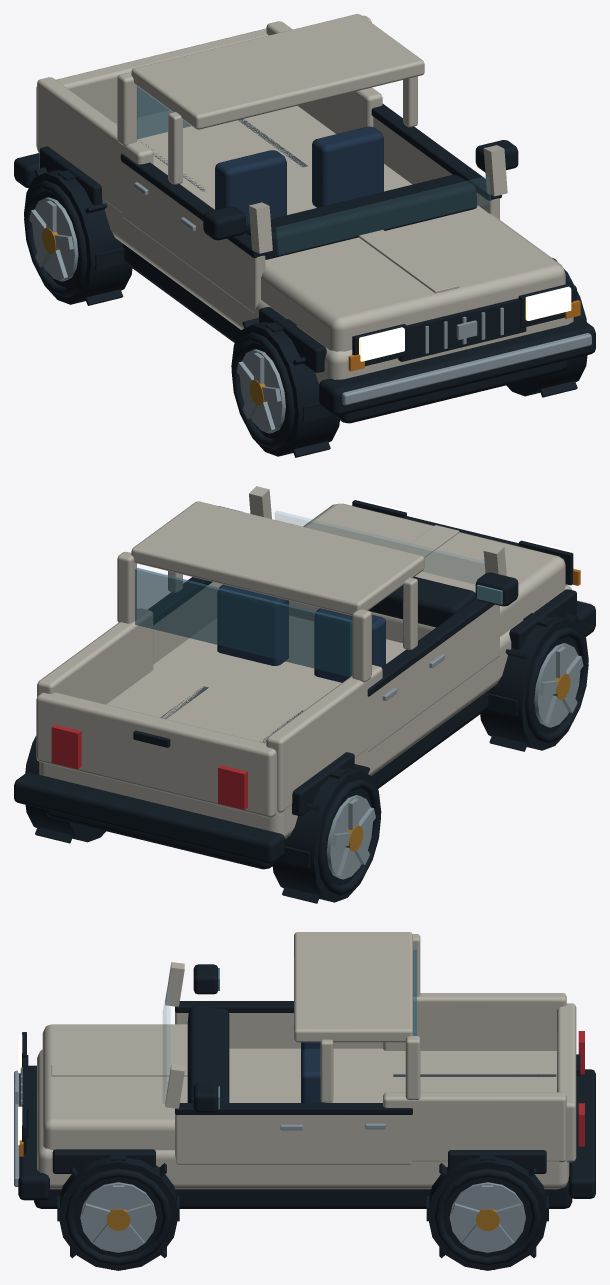
The model's file is white-empanade.glb.
The picture shows the model from 3 angles, top to bottom: view 1: azimuth 30°, elevation 25°; view 2: azimuth 150°, elevation 25°; view 3: azimuth 270°, elevation 25°; orthographic projection. The views are drawn at different scales.
Visible parts, largest first — view 1: sill_merged, underbody_merged, tire_merged (×3), seat-back_merged, low-windscreen, rim_merged (×2), door-handle_merged, headlight_merged, mirror-shell (×2), rear-glass; view 2: sill_merged, underbody_merged, tire_merged (×3), rear-glass, seat-back_merged, rim_merged (×2), low-windscreen, tail-light_merged, mirror-shell; view 3: sill_merged, underbody_merged, tire_merged (×2), rim_merged (×2), mirror-shell (×2), seat-back_merged, door-handle_merged, low-windscreen, tail-light_merged, bed-ridge_merged.
Part boxes in pixels (x1=…): sill_merged: x1=36, y1=14, x2=573, y2=383; underbody_merged: x1=14, y1=104, x2=595, y2=423; tire_merged (×3): x1=24, y1=167, x2=587, y2=457; seat-back_merged: x1=215, y1=126, x2=383, y2=224; low-windscreen: x1=275, y1=176, x2=491, y2=254; rim_merged (×2): x1=29, y1=197, x2=285, y2=433; door-handle_merged: x1=134, y1=182, x2=591, y2=405; headlight_merged: x1=359, y1=286, x2=571, y2=361; mirror-shell (×2): x1=203, y1=140, x2=518, y2=240; rear-glass: x1=137, y1=86, x2=190, y2=139; sill_merged: x1=36, y1=486, x2=571, y2=838; underbody_merged: x1=14, y1=500, x2=595, y2=869; tire_merged (×3): x1=25, y1=613, x2=588, y2=903; rear-glass: x1=135, y1=568, x2=352, y2=676; seat-back_merged: x1=217, y1=584, x2=385, y2=682; rim_merged (×2): x1=326, y1=643, x2=583, y2=879; low-windscreen: x1=275, y1=511, x2=484, y2=583; tail-light_merged: x1=51, y1=724, x2=247, y2=809; mirror-shell: x1=475, y1=572, x2=518, y2=606; sill_merged: x1=37, y1=932, x2=576, y2=1189; underbody_merged: x1=18, y1=1001, x2=595, y2=1208; tire_merged (×2): x1=57, y1=1155, x2=548, y2=1270; rim_merged (×2): x1=80, y1=1182, x2=525, y2=1252; mirror-shell (×2): x1=193, y1=964, x2=218, y2=1112; seat-back_merged: x1=301, y1=1042, x2=325, y2=1102; door-handle_merged: x1=14, y1=1067, x2=385, y2=1186; low-windscreen: x1=163, y1=989, x2=170, y2=1103; tail-light_merged: x1=578, y1=1031, x2=584, y2=1146; bed-ridge_merged: x1=393, y1=1074, x2=556, y2=1076.
Size of the model in its own units: 2.79 by 2.22 by 5.14.
